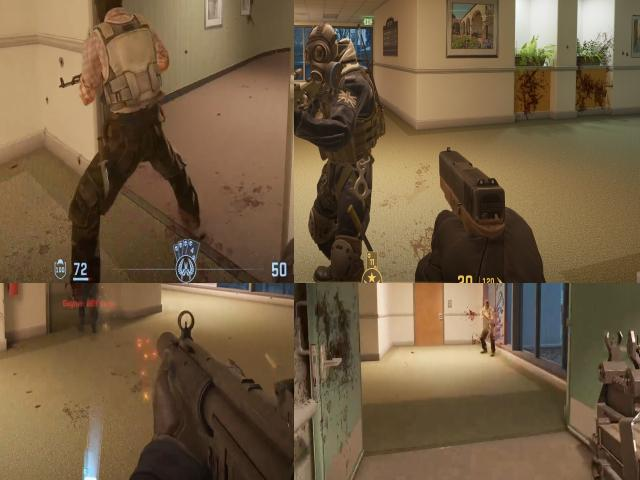CT: (300, 21, 374, 283), (71, 283, 101, 322)
CT-Head: (304, 24, 342, 74)
T: (78, 0, 174, 122), (480, 301, 493, 349)
T-Head: (90, 0, 130, 27), (482, 297, 494, 314), (493, 294, 495, 297)
